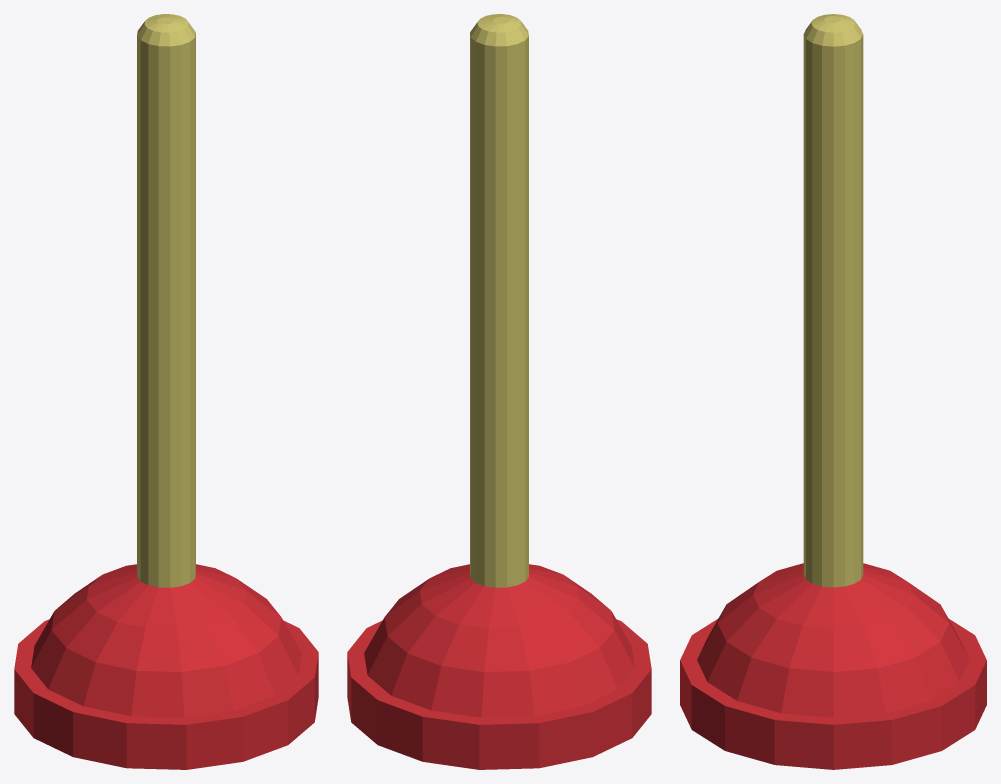
The model's file is Plunger.fbx.
3 renders of one model, left to right at view 1: azimuth 30°, elevation 25°; view 2: azimuth 150°, elevation 25°; view 3: azimuth 270°, elevation 25°, orthographic.
Parts seen in each view (by area): view 1: Cylinder; view 2: Cylinder; view 3: Cylinder.
Boxes of the visible parts, x1,y1,x2,y2 form: Cylinder: (14,14,318,769); Cylinder: (347,14,651,769); Cylinder: (680,14,986,769).
Bounding box in the file's own units: 88.59 × 218 × 88.59.
